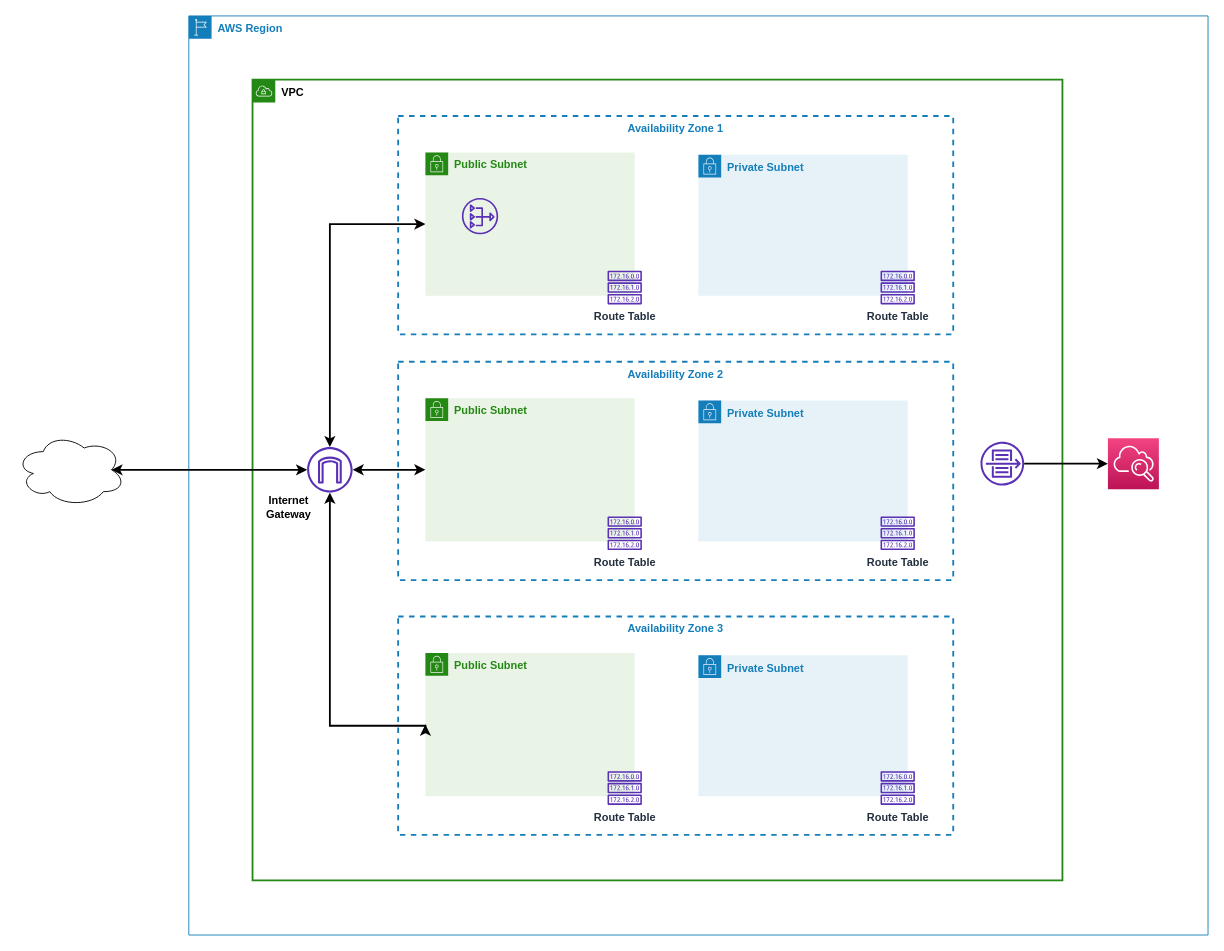
Image size: 1224x951. Some labels were removed from this diagram. Here are the shapes that lost their labels. From the top down, the box of each, then its label:
(461, 197, 498, 234): NAT Gateway
(15, 433, 125, 506): Internet
(980, 441, 1024, 485): VPC Flow Logs
(1107, 437, 1159, 489): AWS CloudWatch Logs
